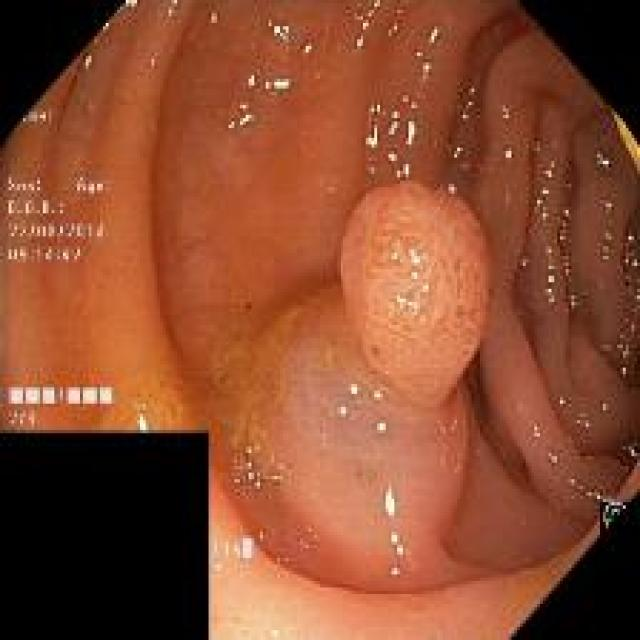Polyps: (339, 184, 491, 410)
